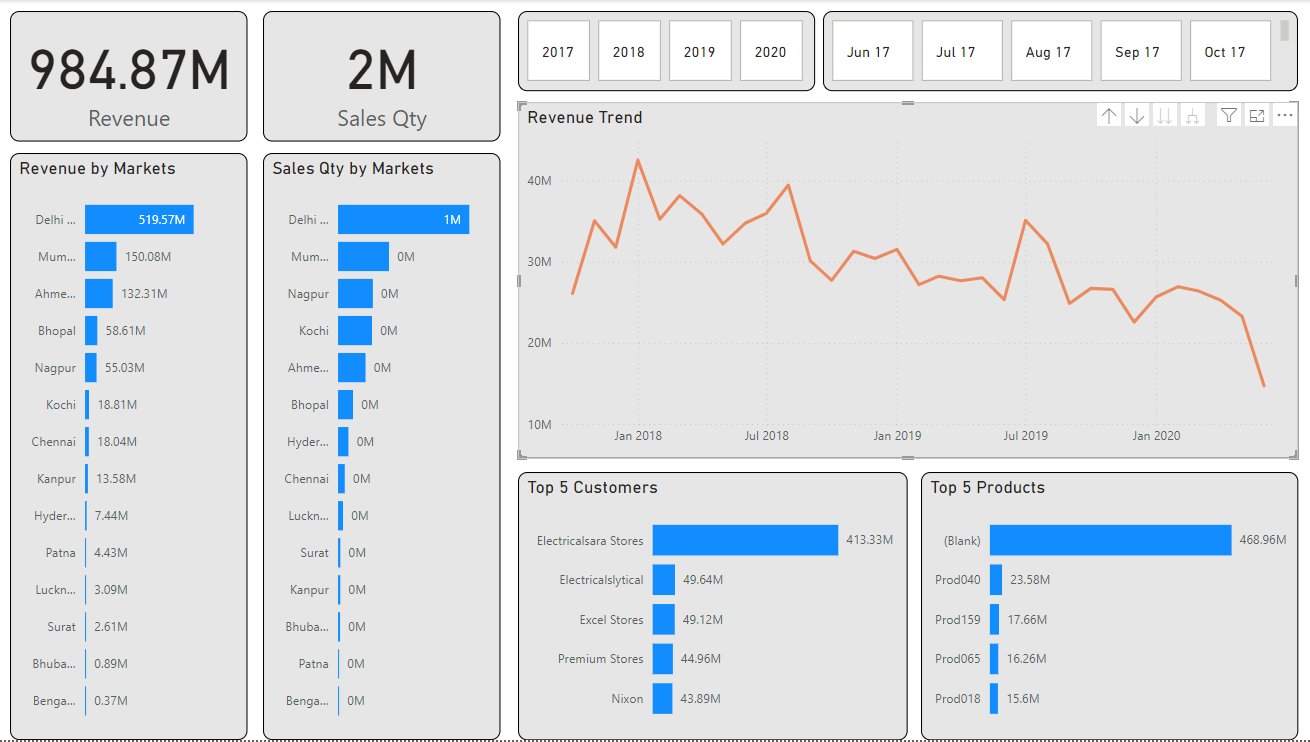

What the dashboard file says about the page in this screenshot:
{"tool":"powerbi","page":{"name":"Page 1","canvas":[1280,720],"ordinal":0},"visuals":[{"type":"card","fields":{"Values":["BaseMeasures.Revenue"]},"box":[10.7,10.7,231.5,127.4],"z":0},{"type":"card","fields":{"Values":["BaseMeasures.Sales Qty"]},"box":[256.8,10.7,231.5,127.4],"z":1000},{"type":"barChart","title":"Revenue by Markets","fields":{"Y":["BaseMeasures.Revenue"],"Category":["sales markets.markets_name"]},"box":[10.7,148.8,231.5,570.9],"z":2000},{"type":"barChart","title":"Sales Qty by Markets","fields":{"Y":["BaseMeasures.Sales Qty"],"Category":["sales markets.markets_name"]},"box":[256.8,148.8,231.5,570.9],"z":3000},{"type":"advancedSlicerVisual","fields":{"Values":["sales date.year"]},"box":[504.8,10.7,288.9,77.8],"z":4000},{"type":"advancedSlicerVisual","fields":{"Values":["sales date.cy_date"]},"box":[801.5,10.7,462,77.8],"z":5000},{"type":"barChart","title":"Top 5 Customers","fields":{"Y":["BaseMeasures.Revenue"],"Category":["sales customers.custmer_name"]},"box":[504.8,459.1,379.3,260.7],"z":6000},{"type":"barChart","title":"Top 5 Products","fields":{"Y":["BaseMeasures.Revenue"],"Category":["sales products.product_code"]},"box":[896.8,459.1,366.7,260.7],"z":7000},{"type":"lineChart","title":"Revenue Trend","fields":{"Y":["BaseMeasures.Revenue"],"Category":["sales date.cy_date.Variation.Date Hierarchy.Year","sales date.cy_date.Variation.Date Hierarchy.Quarter","sales date.cy_date.Variation.Date Hierarchy.Month","sales date.cy_date.Variation.Date Hierarchy.Day"]},"box":[504.8,99.2,758.7,347.2],"z":8000}]}

Visuals, with their boxes in screenshot pixels (x1, y1, x2, y2), scaled from the page's 1280x720 canvas onto the 1310x742 screenshot:
card - BaseMeasures.Revenue: x1=11, y1=11, x2=248, y2=142
card - BaseMeasures.Sales Qty: x1=263, y1=11, x2=500, y2=142
"Revenue by Markets" barChart: x1=11, y1=153, x2=248, y2=741
"Sales Qty by Markets" barChart: x1=263, y1=153, x2=500, y2=741
advancedSlicerVisual - sales date.year: x1=517, y1=11, x2=812, y2=91
advancedSlicerVisual - sales date.cy_date: x1=820, y1=11, x2=1293, y2=91
"Top 5 Customers" barChart: x1=517, y1=473, x2=905, y2=741
"Top 5 Products" barChart: x1=918, y1=473, x2=1293, y2=741
"Revenue Trend" lineChart: x1=517, y1=102, x2=1293, y2=460
